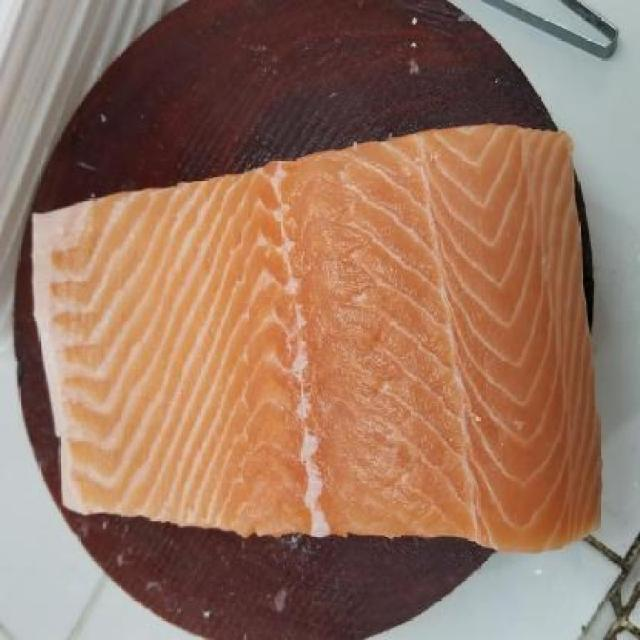salmon: (14, 120, 621, 587)
